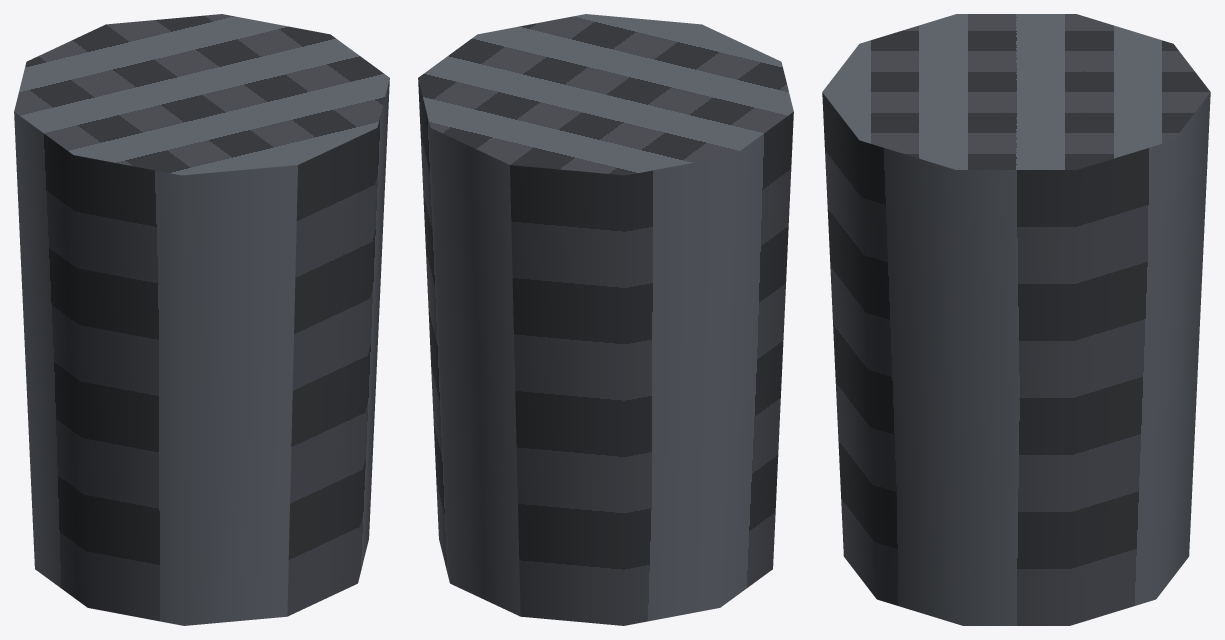
The model's file is Detail_-10_10.glb.
3 views of the same model, side by side, from view 1: azimuth 30°, elevation 25°; view 2: azimuth 150°, elevation 25°; view 3: azimuth 270°, elevation 25° (orthographic).
Visible parts, largest first — view 1: Detail_-10_10; view 2: Detail_-10_10; view 3: Detail_-10_10.
Boxes of the visible parts, box(x1,y1,x2,y2) form: Detail_-10_10: box(14, 14, 389, 625); Detail_-10_10: box(418, 14, 793, 625); Detail_-10_10: box(822, 14, 1210, 625).
Size of the model in its own units: 0.6848 by 0.95 by 0.72.
1 material, 1 textured.
